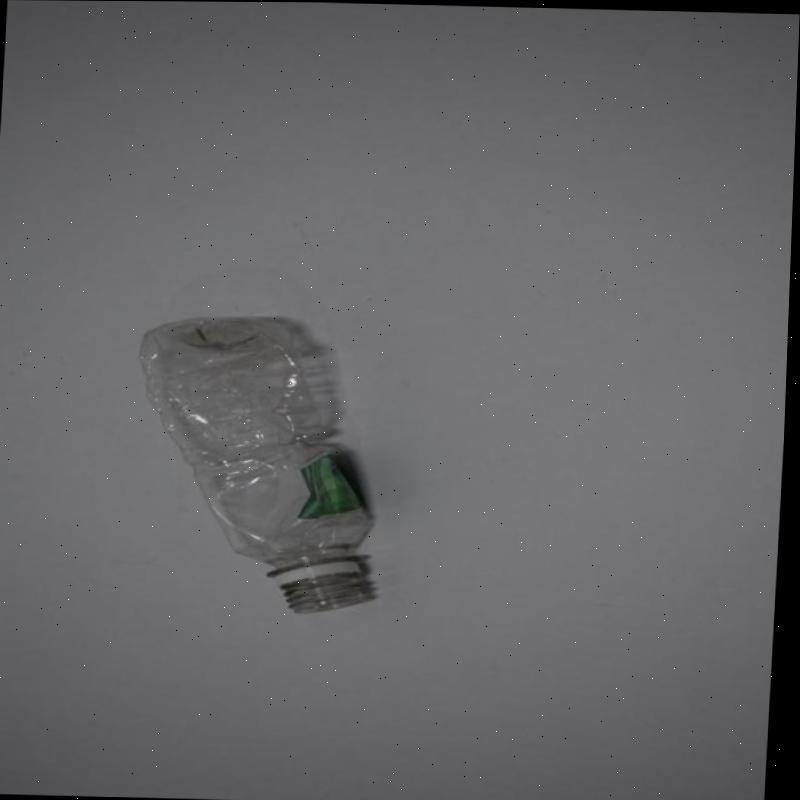botella: (129, 312, 391, 616)
